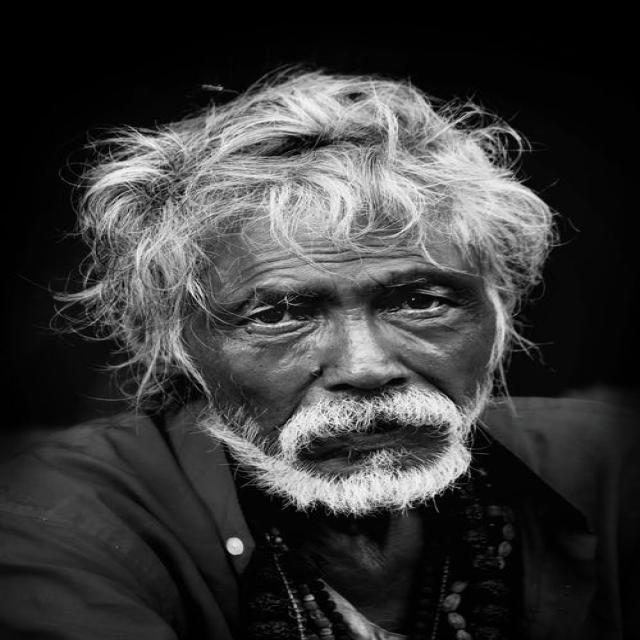Wrinkles: (241, 253, 421, 283), (241, 249, 350, 273), (236, 255, 257, 265), (257, 248, 278, 255), (360, 244, 407, 247), (302, 245, 335, 247), (296, 240, 326, 242)
